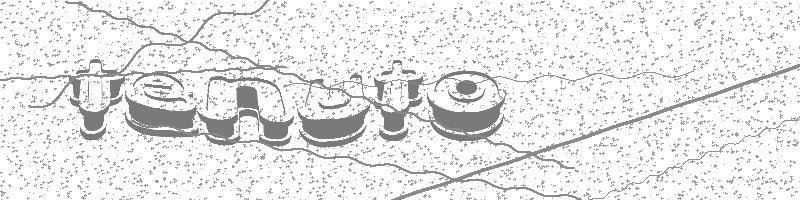e: (126, 72, 200, 140)
n: (201, 72, 296, 148)
o: (426, 66, 505, 141)
t: (372, 57, 424, 143), (70, 57, 125, 137)
u: (298, 73, 370, 147)
